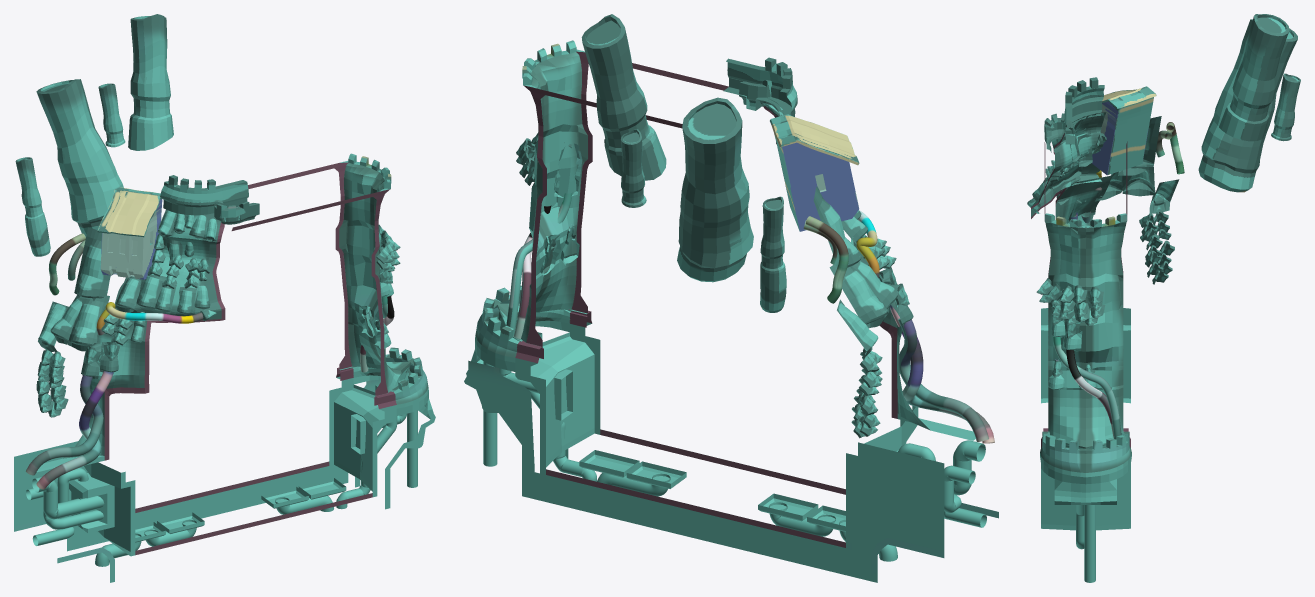
Rendered from Fortress.fbx.
3 renders of one model, left to right at view 1: azimuth 30°, elevation 25°; view 2: azimuth 150°, elevation 25°; view 3: azimuth 270°, elevation 25°, orthographic. The views are drawn at different scales.
Parts seen in each view (by area): view 1: Chimneys, Armor, ArmorUnderground, Socket.001, ArmorBack, UndergroundBackground, House.001, Underground, Scales.001, Tubes, ArmorBack.001, CablesLarge (+6 smaller); view 2: Chimneys, UndergroundBackground, Armor, ArmorUnderground, House.001, Underground, Socket.001, Tubes, CablesLarge, ArmorBack.001, Tubes2, ArmorBack (+7 smaller); view 3: Armor, Chimneys, ArmorUnderground, ArmorBack, House.001, Socket.001, ArmorBack.001, Scales.001, Scales, CablesFront, Tubes, Socket2.001 (+3 smaller).
Part boxes in pixels (bbox=[...]): Chimneys: bbox=[15, 14, 173, 256]; Armor: bbox=[231, 153, 428, 418]; ArmorUnderground: bbox=[14, 384, 435, 582]; Socket.001: bbox=[50, 215, 216, 351]; ArmorBack: bbox=[36, 209, 225, 476]; UndergroundBackground: bbox=[14, 379, 380, 549]; House.001: bbox=[97, 187, 162, 279]; Underground: bbox=[69, 384, 378, 542]; Scales.001: bbox=[36, 233, 209, 417]; Tubes: bbox=[26, 410, 417, 545]; ArmorBack.001: bbox=[160, 175, 259, 224]; CablesLarge: bbox=[26, 371, 113, 489]; Chimneys: bbox=[581, 14, 786, 312]; UndergroundBackground: bbox=[464, 360, 944, 581]; Armor: bbox=[475, 40, 728, 375]; ArmorUnderground: bbox=[466, 332, 998, 582]; House.001: bbox=[770, 114, 859, 231]; Underground: bbox=[537, 332, 905, 531]; Socket.001: bbox=[768, 100, 898, 328]; Tubes: bbox=[483, 361, 986, 527]; CablesLarge: bbox=[890, 305, 994, 443]; ArmorBack.001: bbox=[723, 57, 797, 116]; Tubes2: bbox=[597, 440, 985, 561]; ArmorBack: bbox=[763, 99, 975, 440]; Armor: bbox=[1040, 141, 1131, 484]; Chimneys: bbox=[1198, 14, 1300, 192]; ArmorUnderground: bbox=[1041, 308, 1130, 530]; ArmorBack: bbox=[1031, 112, 1112, 225]; House.001: bbox=[1092, 86, 1156, 175]; Socket.001: bbox=[1027, 116, 1161, 213]; ArmorBack.001: bbox=[1044, 77, 1104, 152]; Scales.001: bbox=[1045, 133, 1174, 284]; Scales: bbox=[1036, 278, 1105, 326]; CablesFront: bbox=[1053, 336, 1121, 439]; Tubes: bbox=[1076, 505, 1095, 582]; Socket2.001: bbox=[1052, 112, 1179, 213].
Size of the model in its own units: 50.01 by 54.56 by 28.42.
1 material, 1 textured.
